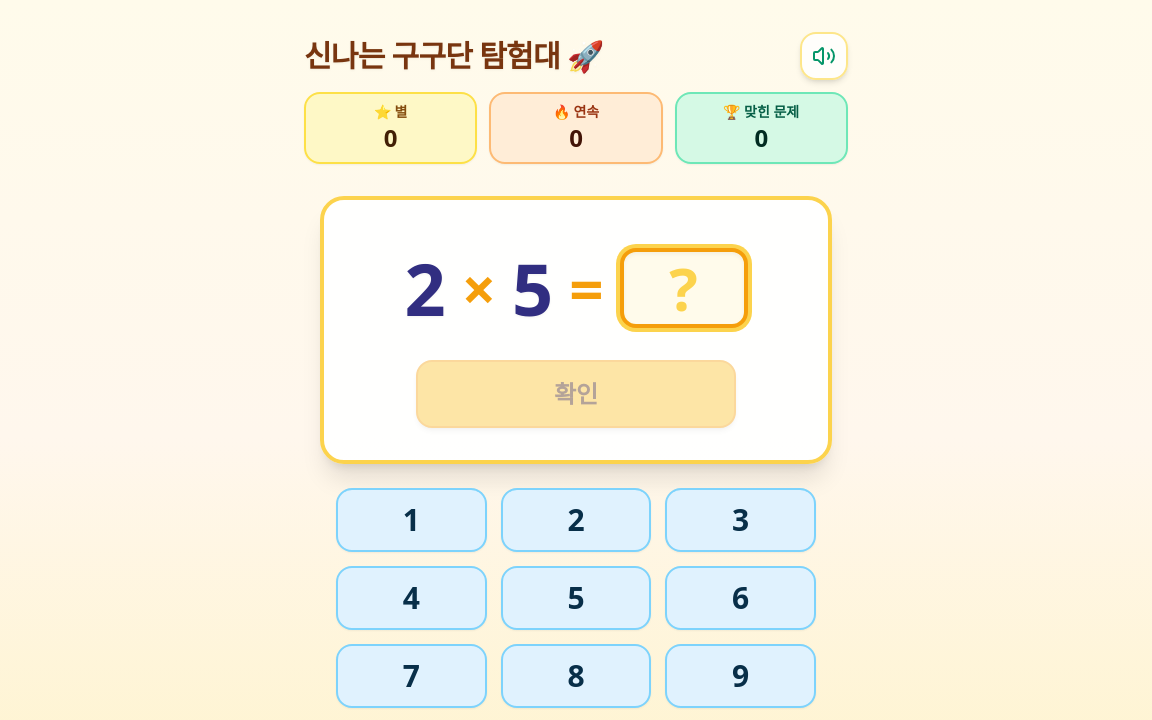
Test: App Integration › handles submission using QuizCard submit button when answer is entered
The image size is (1152, 720).
Type "10" into the field named "정답 입력" at (684, 288), box [620,248,748,328]
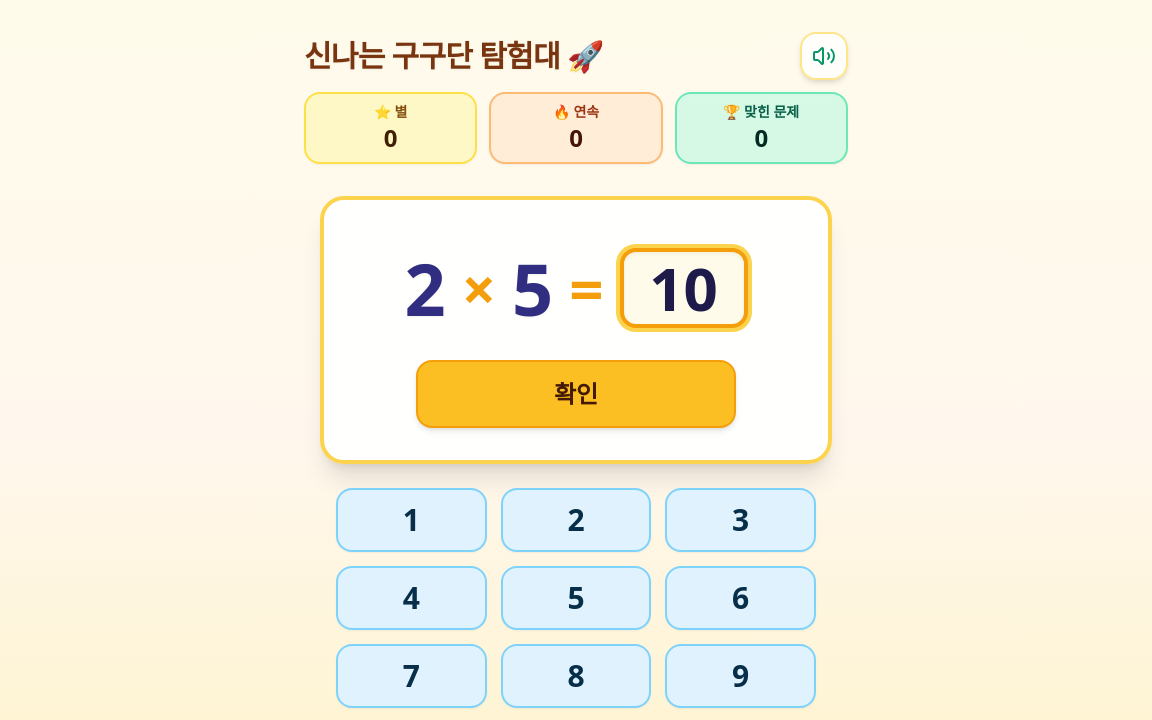
Note: The first '확인' button is on QuizCard
Click the button "확인" at (576, 394), box [416,360,736,428]
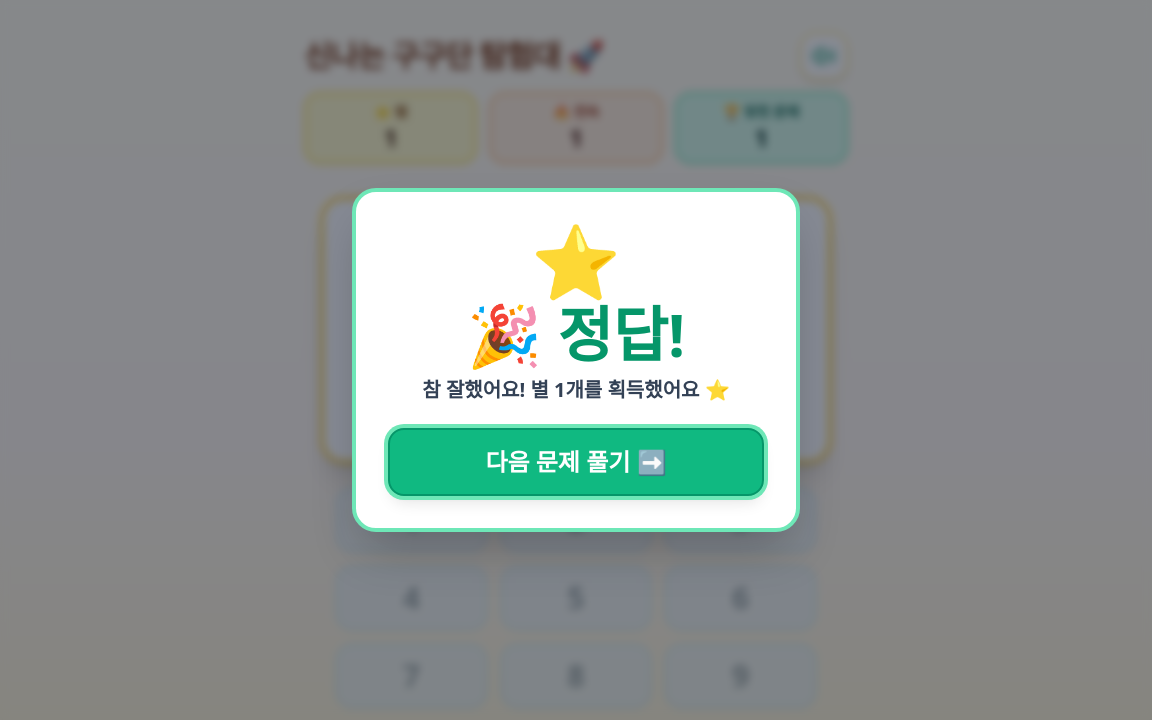
Expected: the dialog is shown
Expected: the heading "🎉 정답!" is shown, [467,293,685,375]
